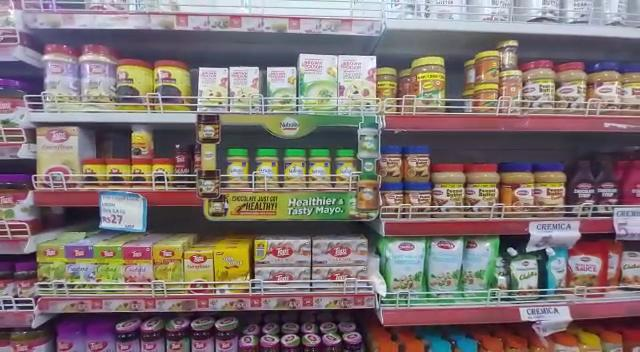Nutralite ACHARI MAYO 300g-275g-25g-: (335, 148, 360, 189), (312, 144, 335, 188)
Nutralite CHEESY GARLIC MAYO 300g-275g-25g-: (254, 144, 281, 188), (285, 144, 311, 189), (225, 142, 248, 187)
